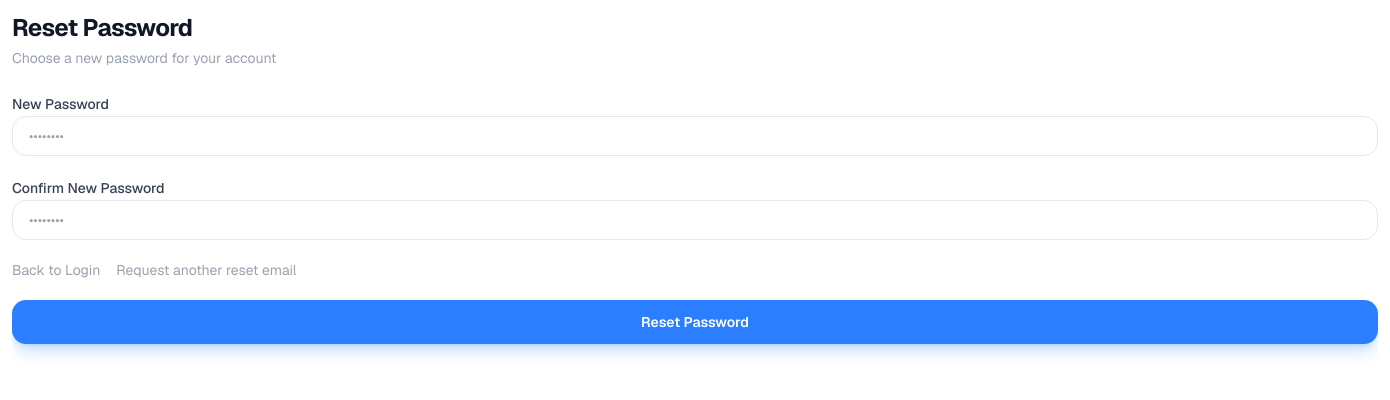
Test: ResetPasswordForm — Unit Tests › TC-RESET-05: shows 'Passwords do not match' error when passwords differ
Type "Password1!" into the password field labelled "New Password". click: (695, 136)
box: [12, 116, 1378, 156]
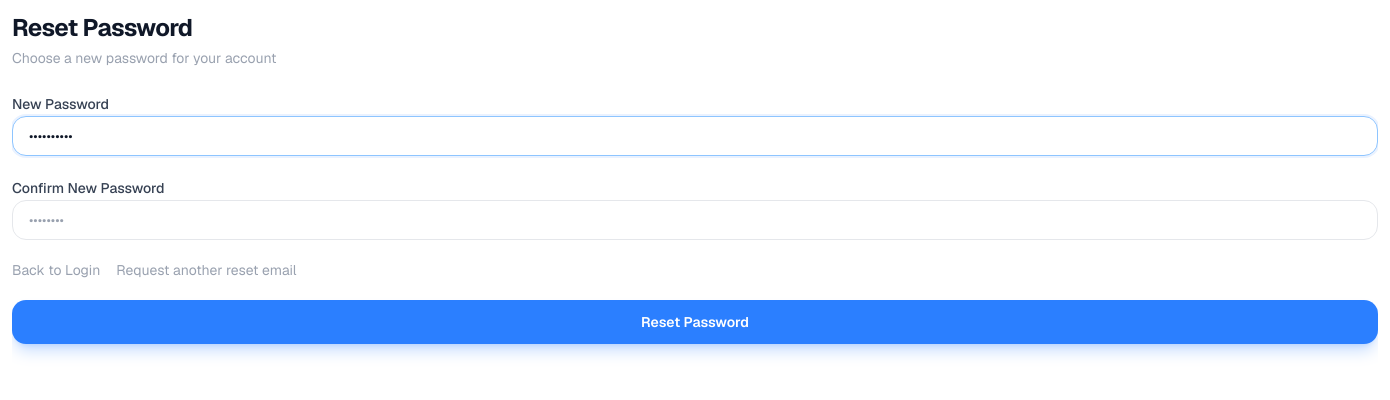
Type "Different1!" into the password field labelled "Confirm New Password". click: (695, 220)
box: [12, 200, 1378, 240]
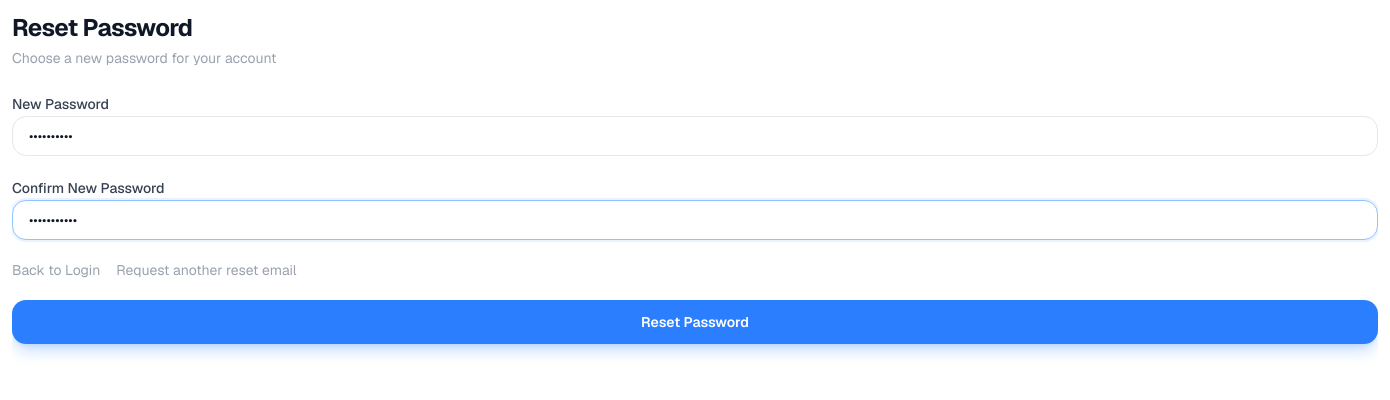
Click the button "Reset Password". click: (695, 322)
box: [12, 300, 1378, 344]
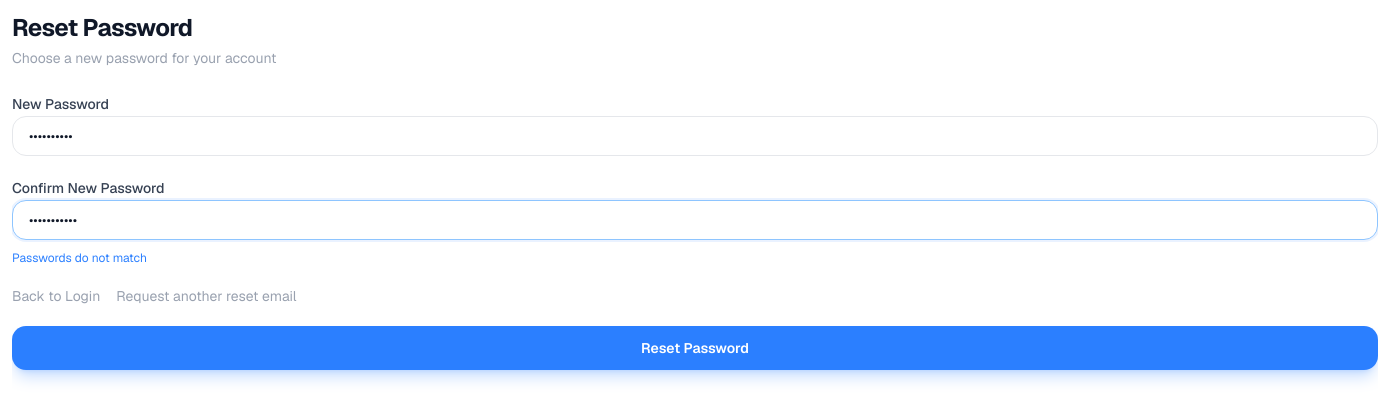
Now the text "Passwords do not match" is shown, box [12, 250, 147, 266]
